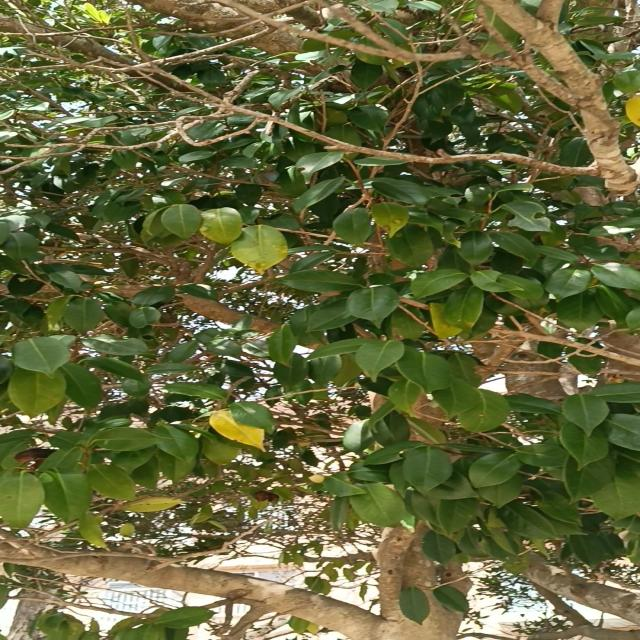Branch: (0, 530, 387, 640), (512, 551, 639, 622), (375, 516, 427, 625)
Twig: (0, 58, 600, 175), (475, 0, 635, 193), (225, 1, 512, 68), (475, 5, 576, 108), (79, 31, 269, 74)
